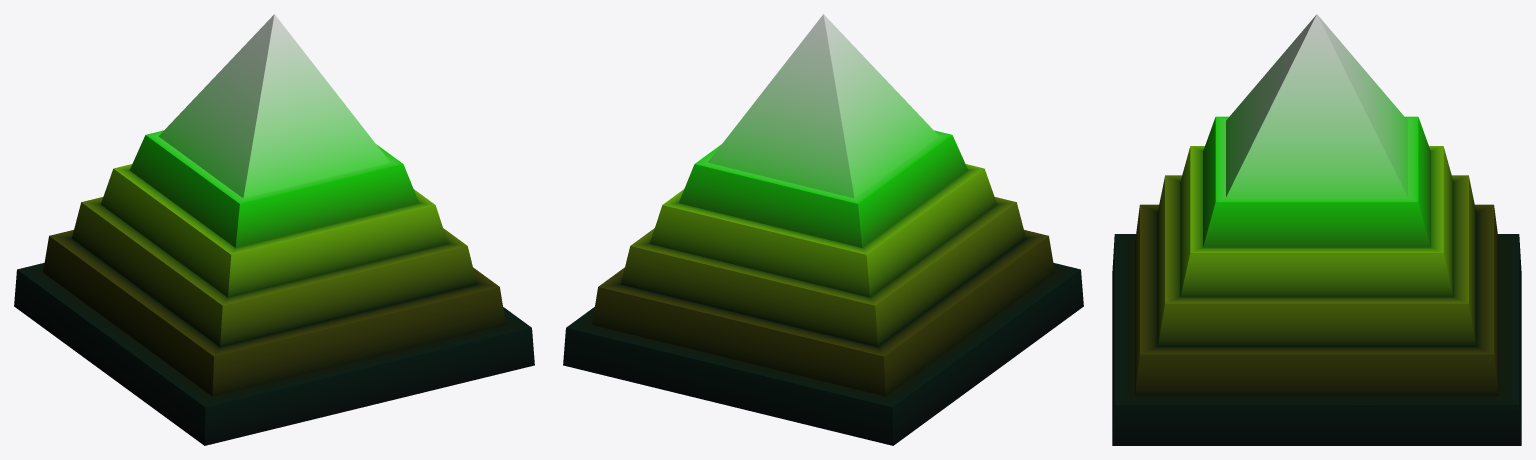
3 renders of one model, left to right at view 1: azimuth 30°, elevation 25°; view 2: azimuth 150°, elevation 25°; view 3: azimuth 270°, elevation 25°, orthographic. The views are drawn at different scales.
Visible parts, largest first — view 1: Pyramid; view 2: Pyramid; view 3: Pyramid.
Boxes of the visible parts, <box> form: Pyramid: <box>14,14,534,445</box>; Pyramid: <box>563,14,1083,445</box>; Pyramid: <box>1112,14,1521,445</box>.
Size of the model in its own units: 21.09 by 19.65 by 21.09.
